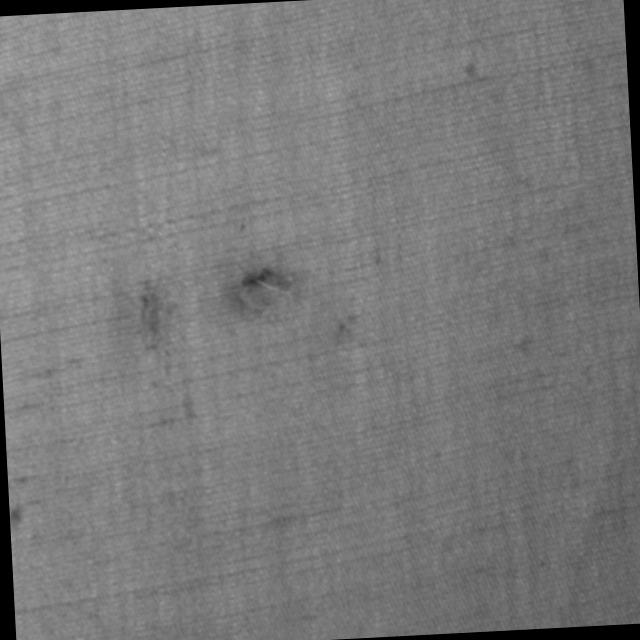objects: (222, 257, 304, 325)
